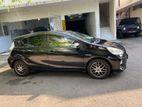car: (8, 31, 129, 77), (118, 17, 142, 36)
